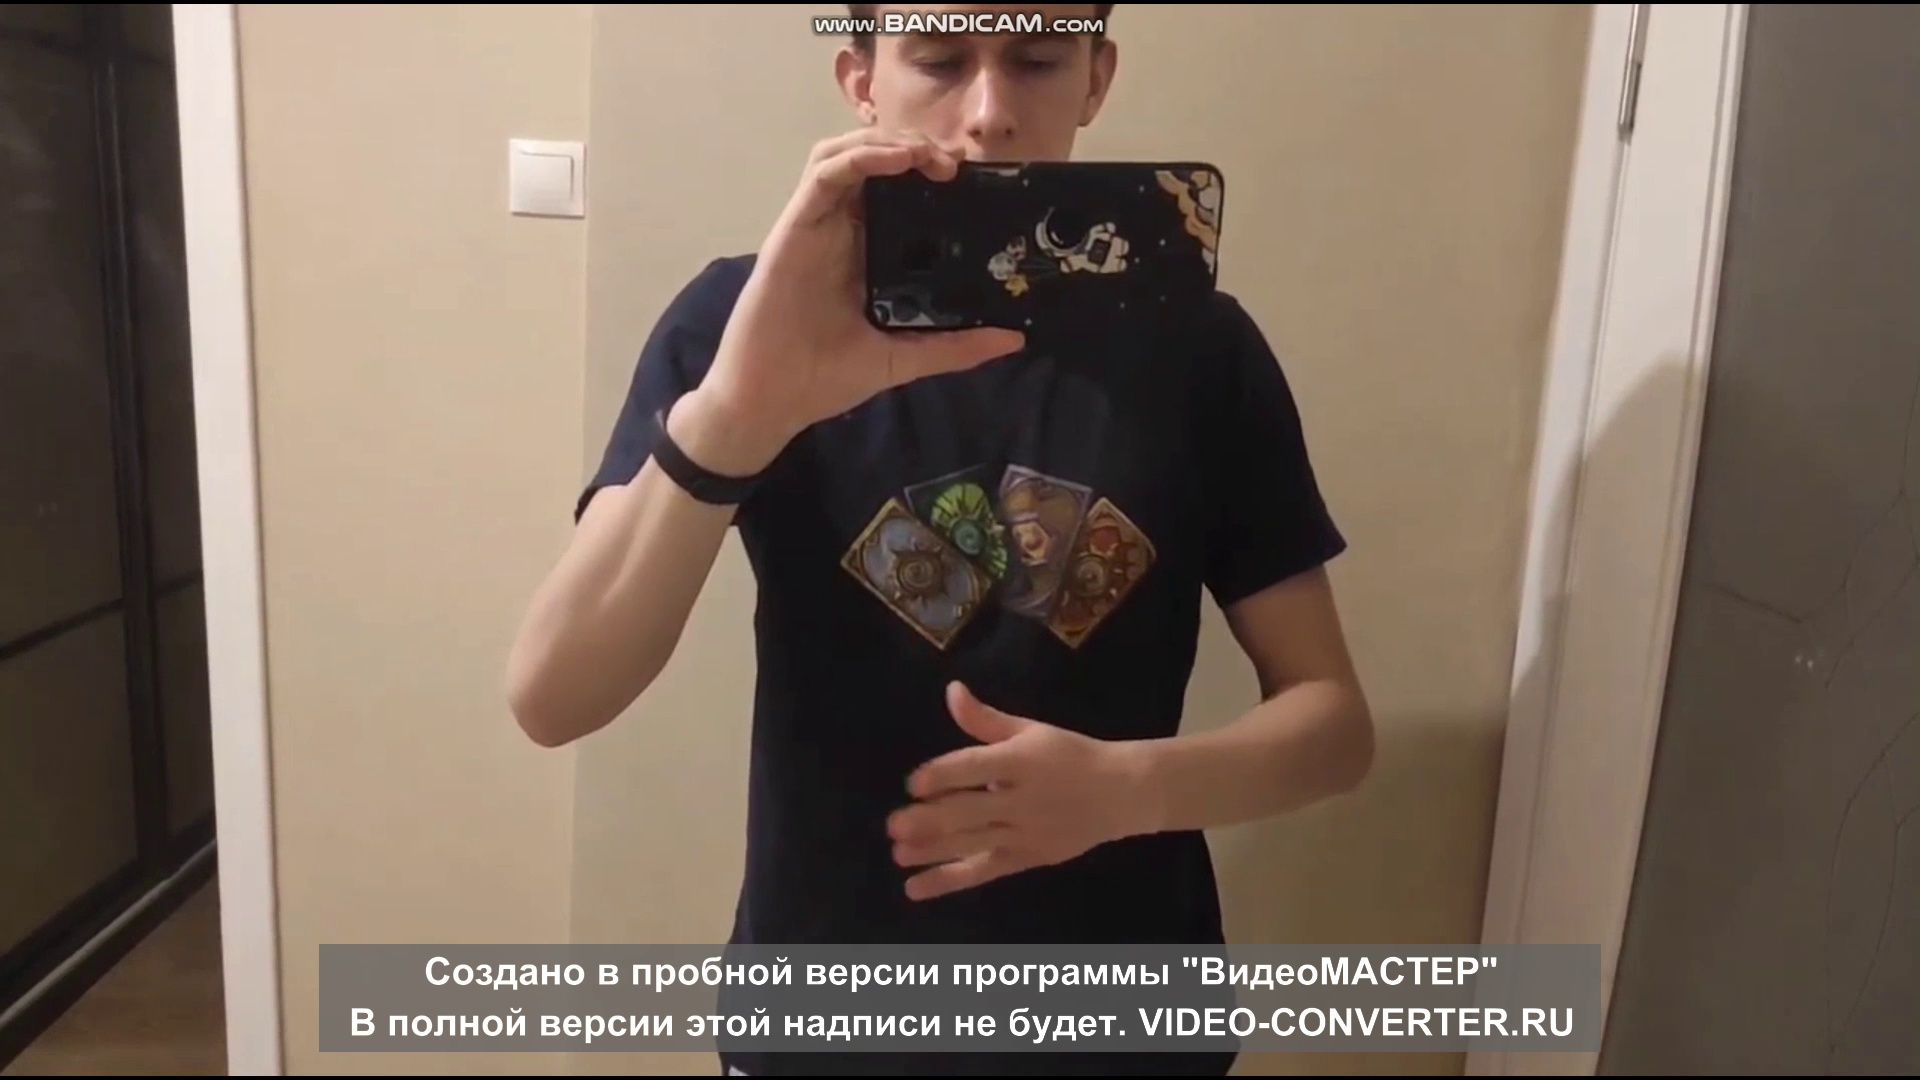Кисть: (884, 680, 1112, 899)
